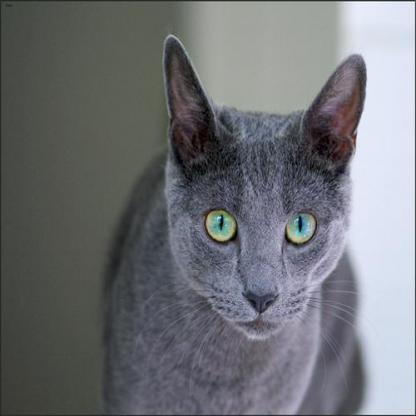cat: (101, 33, 368, 415)
